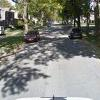Tree: (52, 0, 93, 24)
